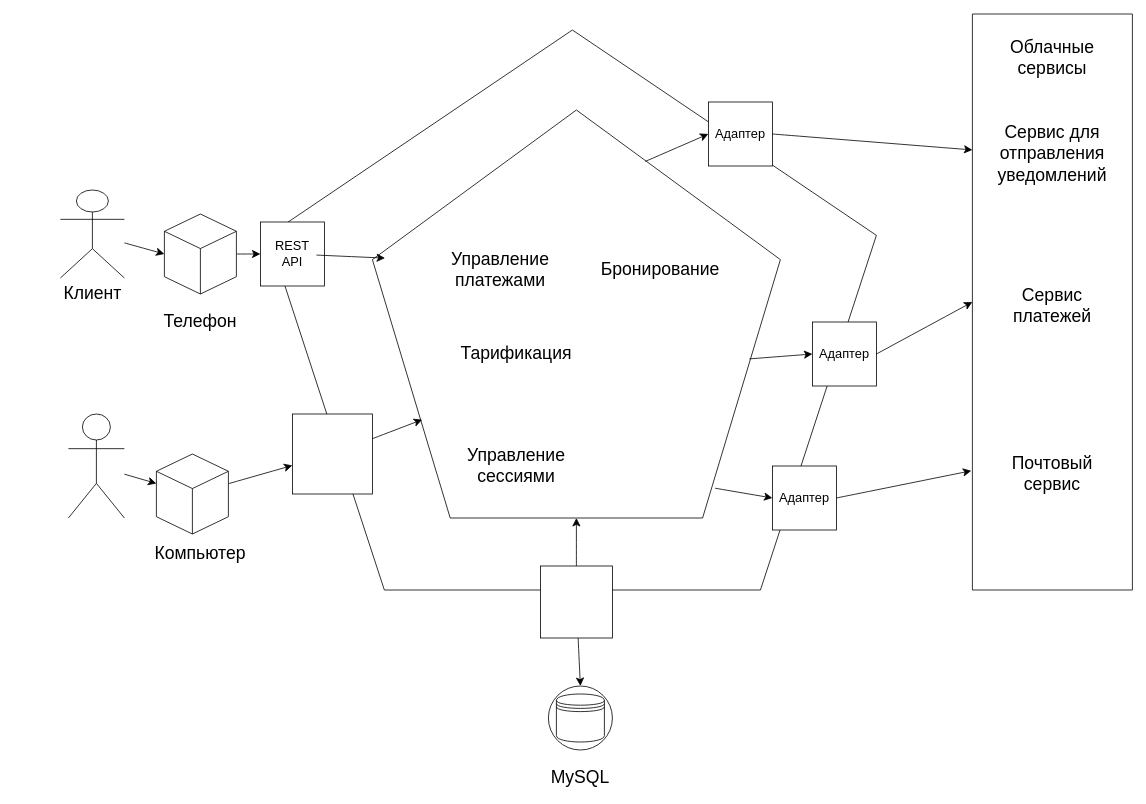
Image size: 1146x804. Some labels were removed from this diagram. Each missing label, with the centre of its shape:
Адаптер для MySQL: [576,601]
Веб-интерфейс: [332,453]
Компьютерный клуб: [96,465]
